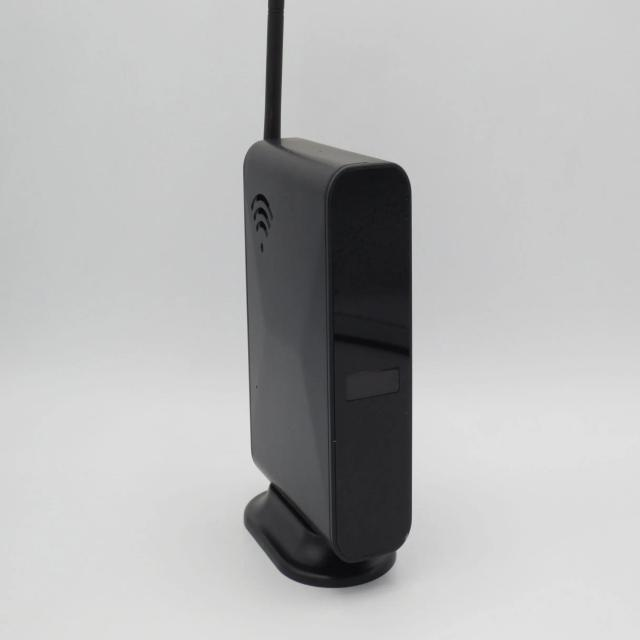hidden camera: (252, 233, 274, 266)
